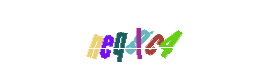4: (129, 0, 209, 80)
C: (108, 0, 188, 80)
E: (72, 0, 152, 80)
G: (87, 0, 167, 80)
L: (93, 0, 173, 80)
N: (67, 0, 147, 80)
Q: (80, 0, 160, 80)
